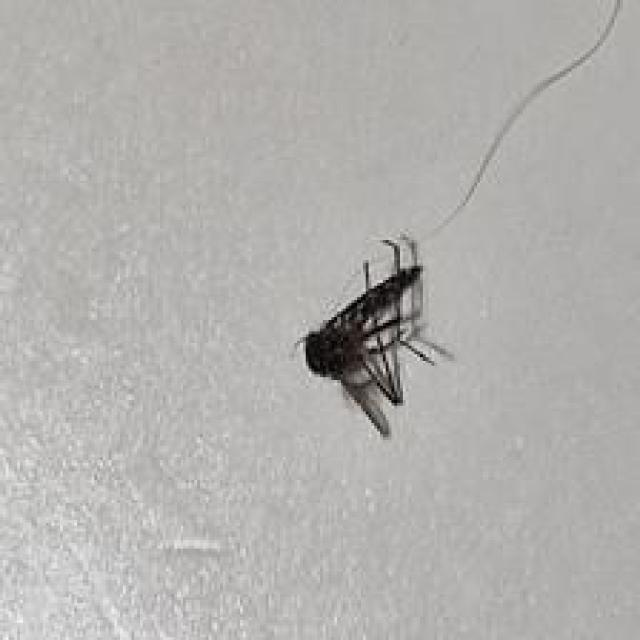Aedes albopictus: (294, 231, 454, 440)
